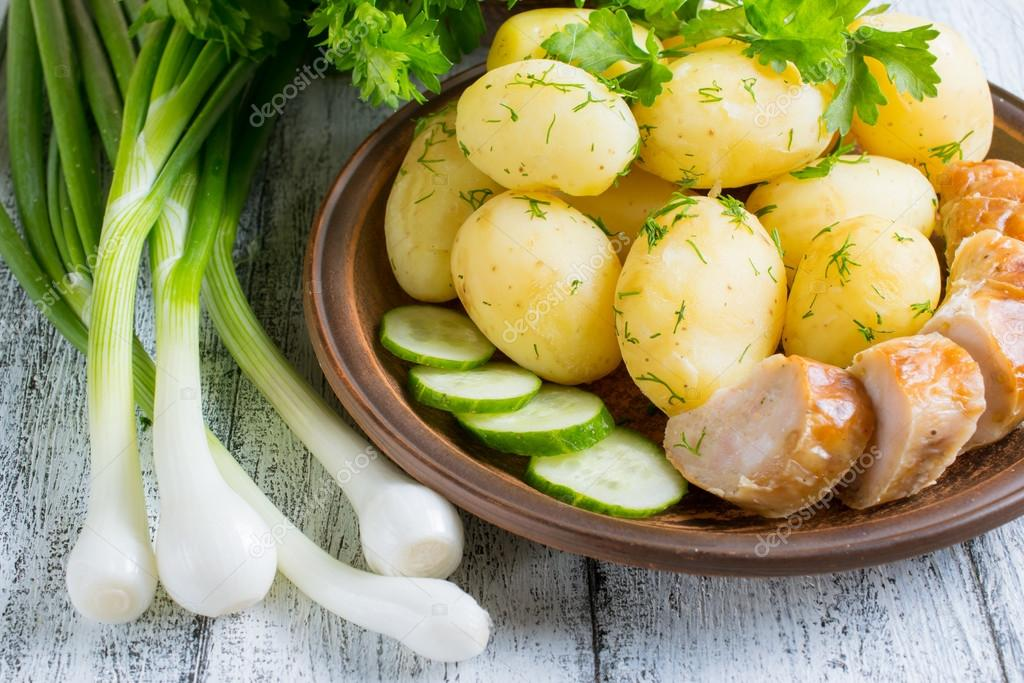boiled potatoes: (506, 54, 955, 320)
